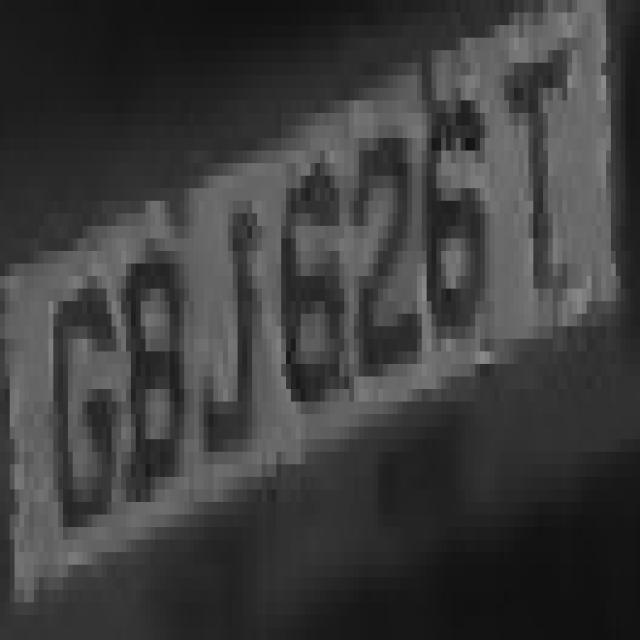2: (325, 101, 422, 414)
6: (262, 113, 354, 477), (412, 50, 490, 364)
B: (97, 226, 199, 527)
G: (48, 226, 116, 577)
J: (189, 150, 267, 490)
T: (489, 0, 586, 314)
